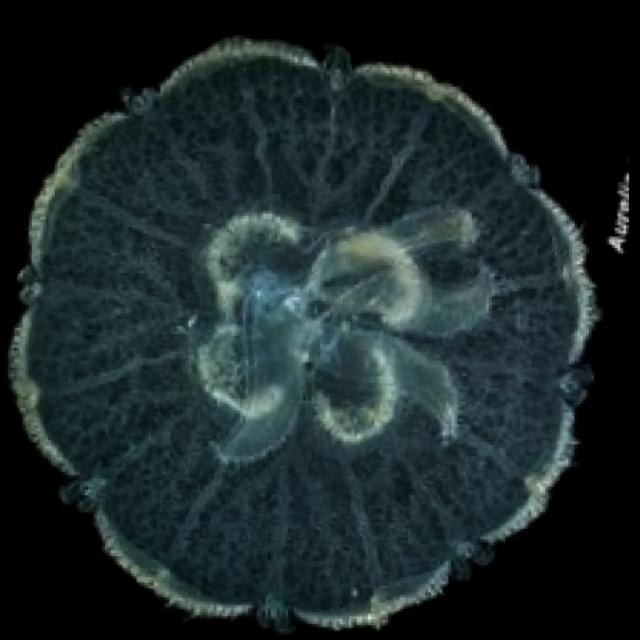Moon-jellyfish: (0, 4, 625, 640)
